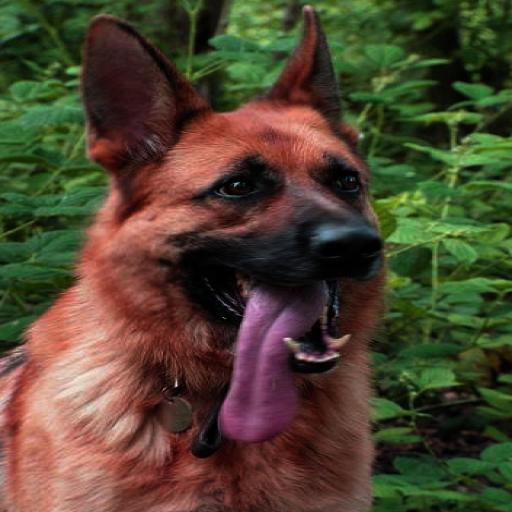dog_face: (82, 5, 388, 390)
